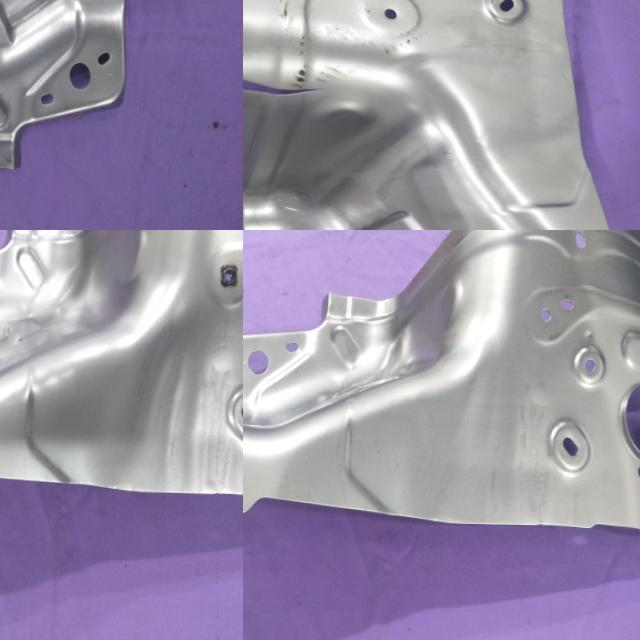Defect: (243, 230, 640, 640), (243, 57, 339, 115)
Healthy: (0, 230, 243, 509), (0, 0, 226, 212)
